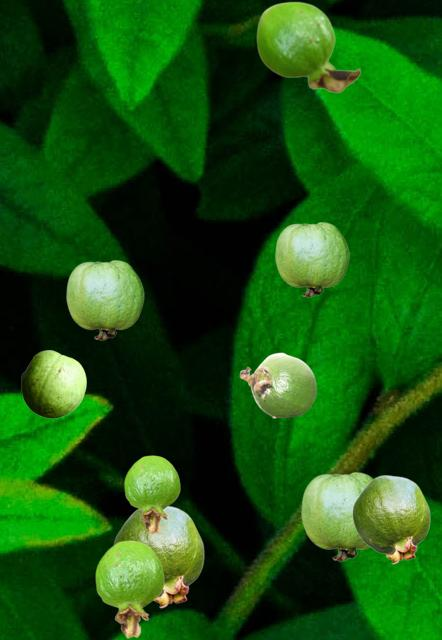guava: (256, 1, 360, 92), (113, 506, 203, 607), (352, 475, 429, 563), (95, 540, 163, 637), (301, 472, 372, 560), (66, 260, 143, 339), (275, 222, 348, 296), (239, 352, 316, 417), (124, 455, 179, 533), (21, 350, 85, 417)
